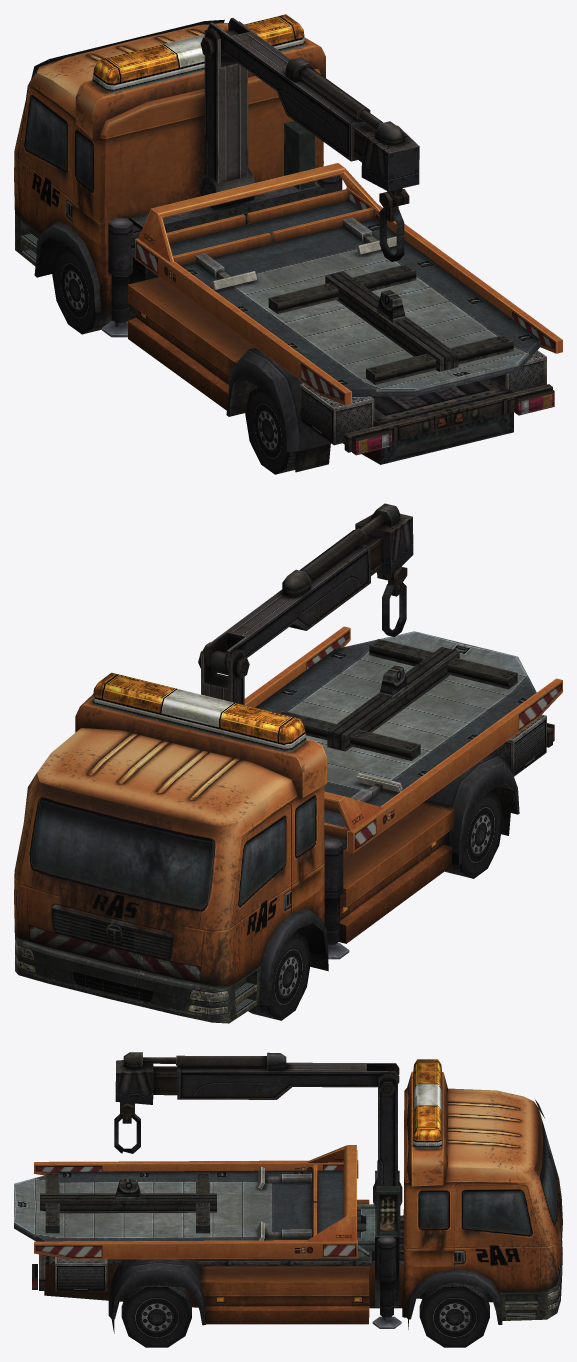
File: t car.FBX
The picture shows the model from 3 angles, top to bottom: view 1: azimuth 30°, elevation 25°; view 2: azimuth 150°, elevation 25°; view 3: azimuth 270°, elevation 25°; orthographic projection. The views are drawn at different scales.
Visible parts, largest first — view 1: Box001; view 2: Box001; view 3: Box001.
Boxes of the visible parts, x1,y1,x2,y2 form: Box001: [14, 14, 562, 474]; Box001: [14, 503, 562, 1023]; Box001: [14, 1052, 562, 1347].
Size of the model in its own units: 2.41 by 3.17 by 6.21.
